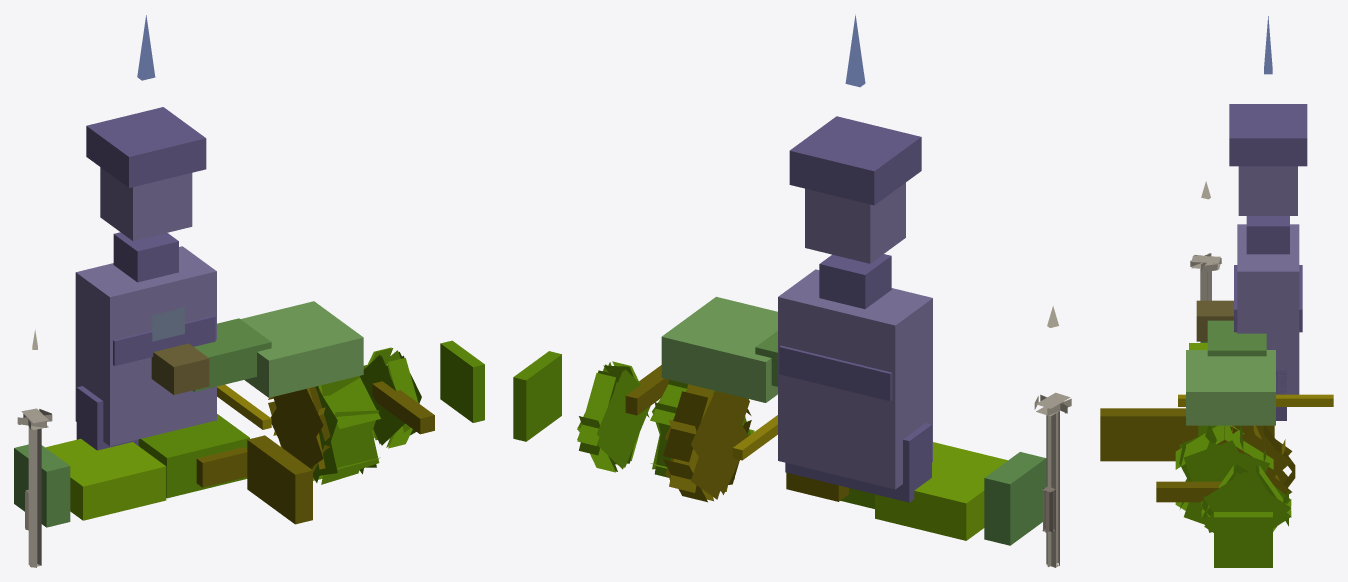
The model's file is uesugi-09.glb.
The picture shows the model from 3 angles, left to right: view 1: azimuth 30°, elevation 25°; view 2: azimuth 150°, elevation 25°; view 3: azimuth 270°, elevation 25°; orthographic projection. The views are drawn at different scales.
Visible parts, largest first — view 1: samurai; view 2: samurai; view 3: samurai.
Part boxes in pixels (x1,y1,x2,y2): samurai: (14, 15, 484, 567); samurai: (513, 14, 1071, 567); samurai: (1100, 16, 1333, 567).
Size of the model in its own units: 1.58 by 1.58 by 0.75.
